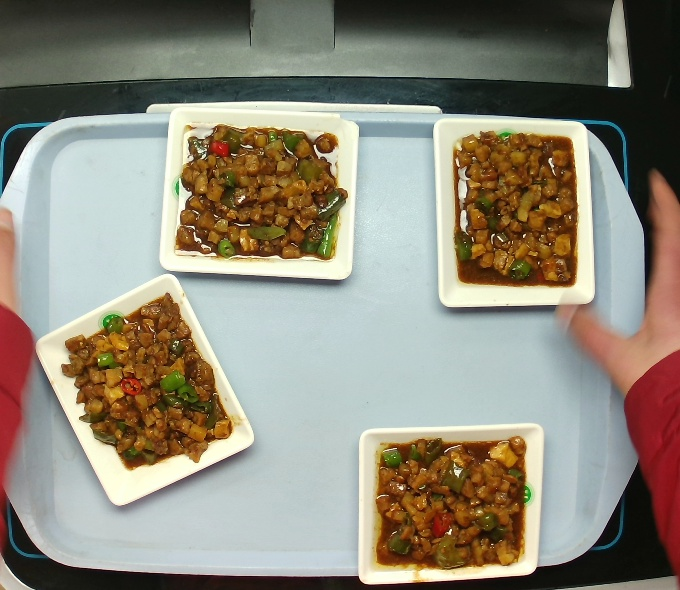wcq-XiaoJiangRou: (60, 292, 233, 471), (175, 124, 349, 261), (375, 435, 532, 571), (452, 130, 579, 288)
